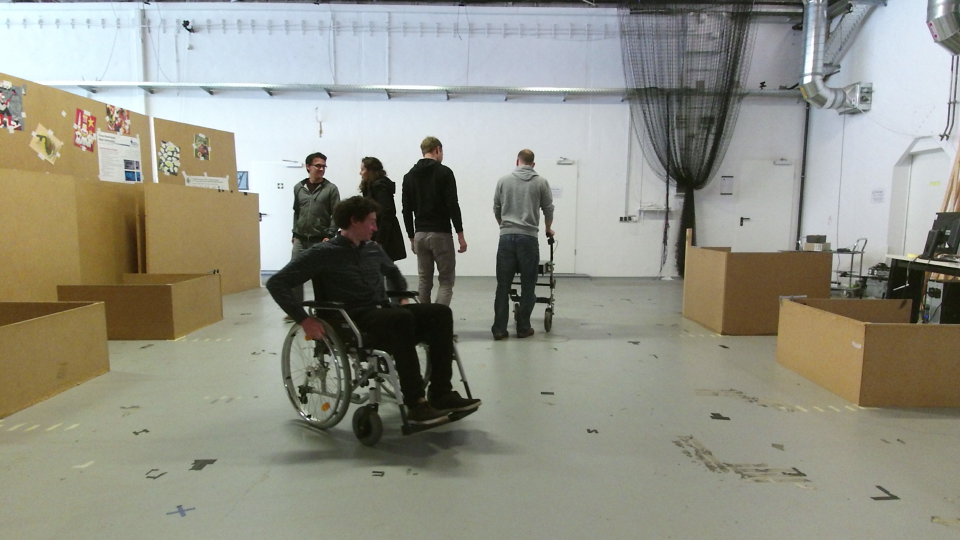wheelchair: (269, 201, 474, 448)
